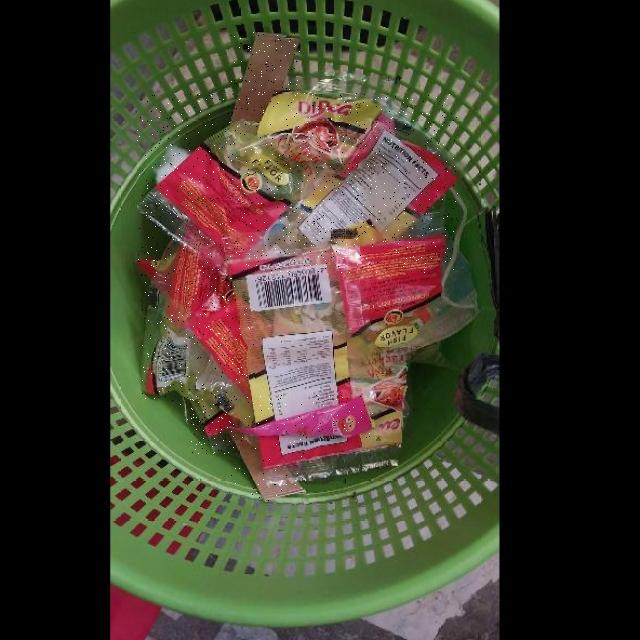paper: (231, 33, 300, 124), (229, 429, 305, 501)
wrapper: (224, 212, 447, 483), (138, 93, 458, 273), (142, 239, 235, 400), (172, 301, 255, 423), (230, 395, 373, 438), (191, 398, 234, 454)
